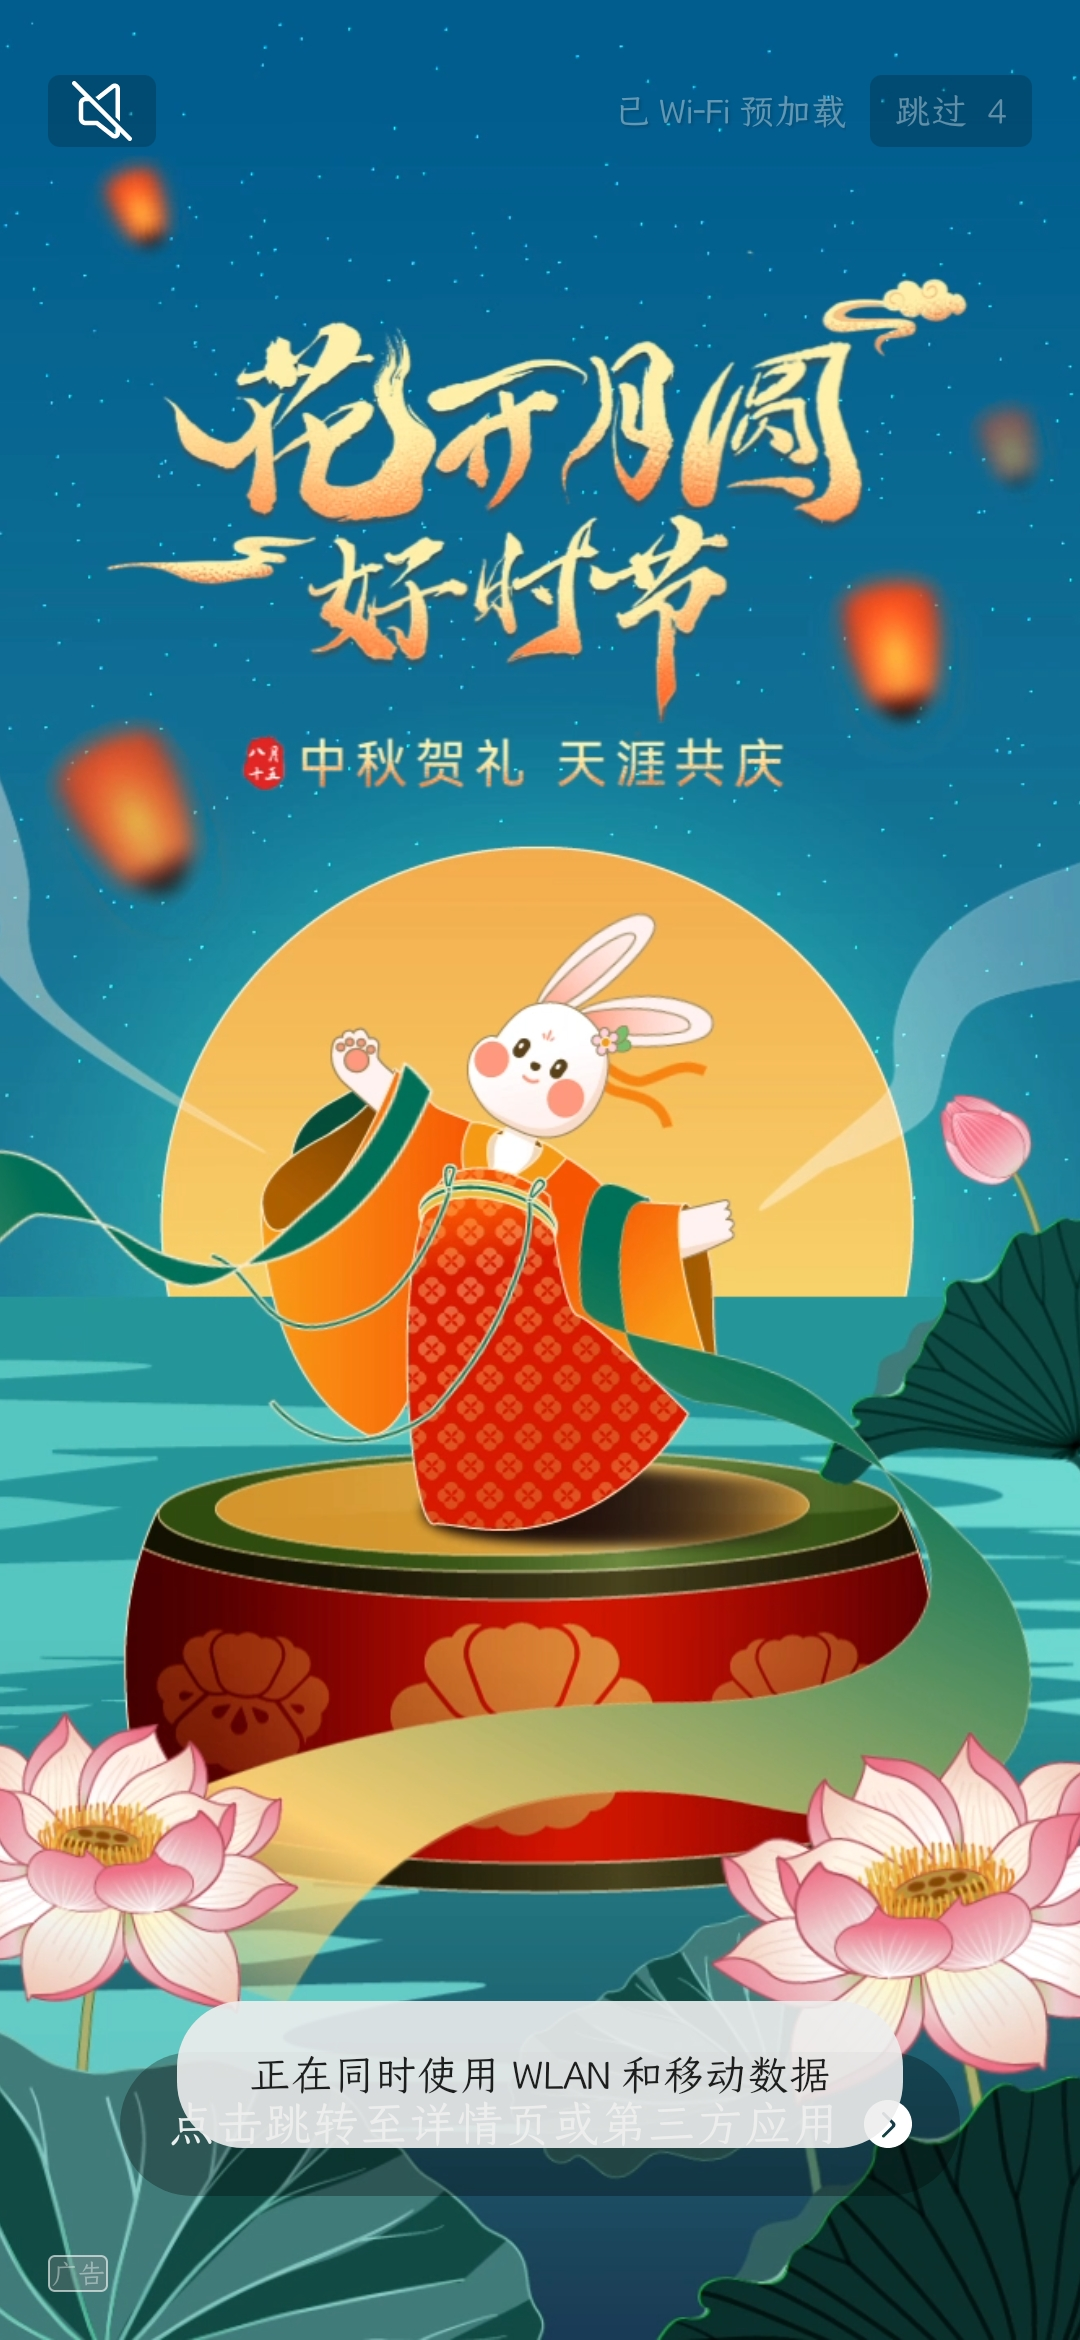skip: (874, 72, 1032, 157)
